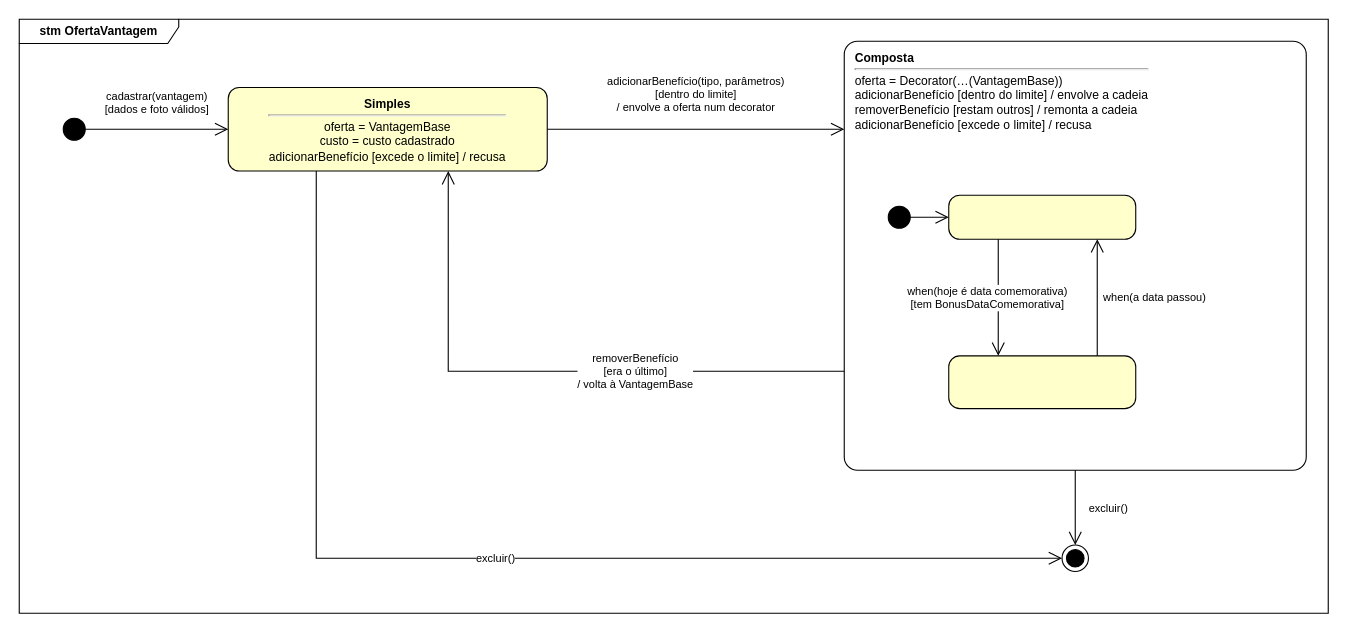
The diagram is 1348 pixels wide and 633 high, and some of its shapes have lost their labels. The shapes that lost their labels are listed below. From the top down, each one's centre as x and y in pixels, then its label:
the point at 1042,216: Preço normal
the point at 1042,382: Bônus ativo custo reduzido
